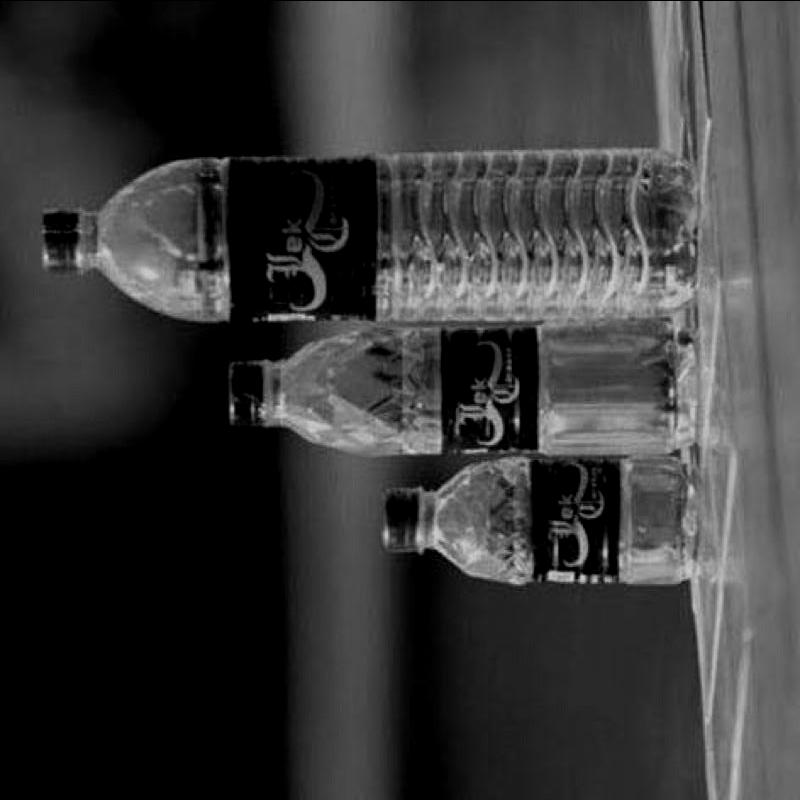bottle: (27, 137, 713, 342), (213, 305, 709, 469), (370, 446, 724, 593)
